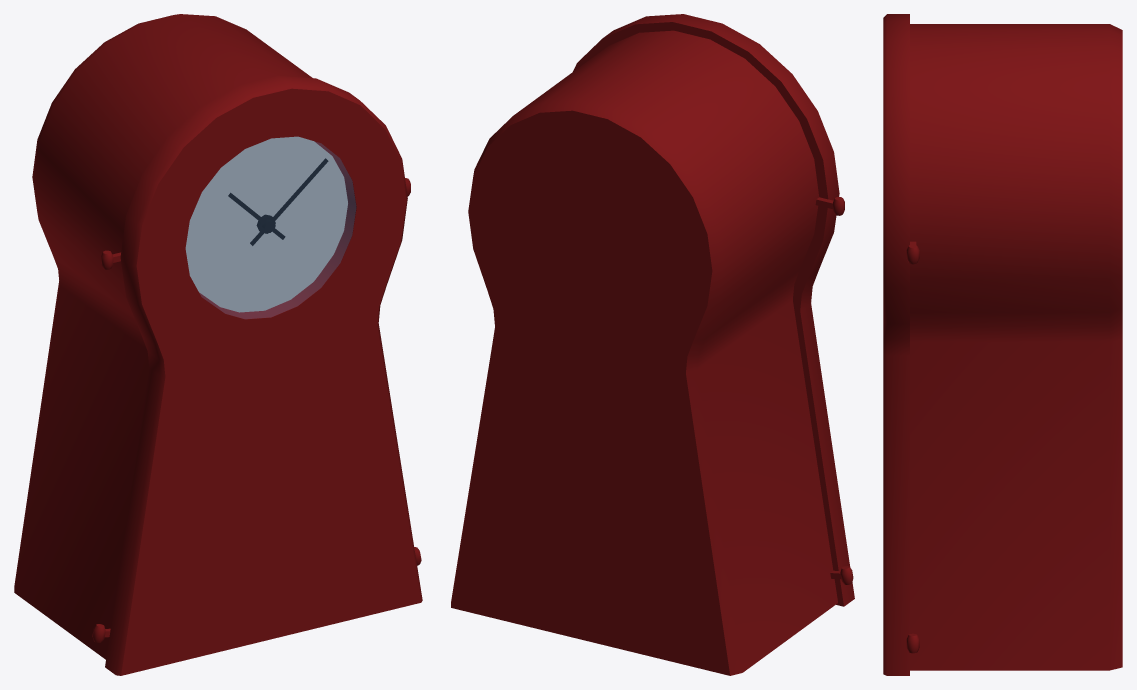
File: IkeaPsClock.FBX
3 views of the same model, side by side, from view 1: azimuth 30°, elevation 25°; view 2: azimuth 150°, elevation 25°; view 3: azimuth 270°, elevation 25° (orthographic). The views are drawn at different scales.
Parts seen in each view (by area): view 1: IkeaPsClock; view 2: IkeaPsClock; view 3: IkeaPsClock.
Boxes of the visible parts, box(x1,y1,x2,y2) form: IkeaPsClock: box(14, 14, 422, 675); IkeaPsClock: box(451, 14, 854, 675); IkeaPsClock: box(883, 14, 1122, 675).
Size of the model in its own units: 29.93 by 18.31 by 47.9.
